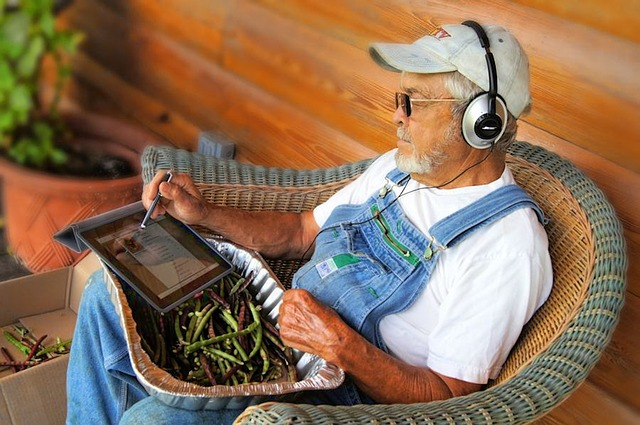headphones: (460, 20, 509, 149)
